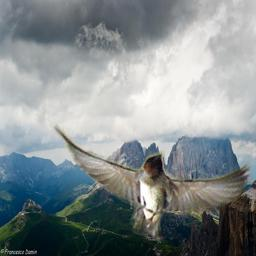Swallow: (50, 122, 254, 244)
